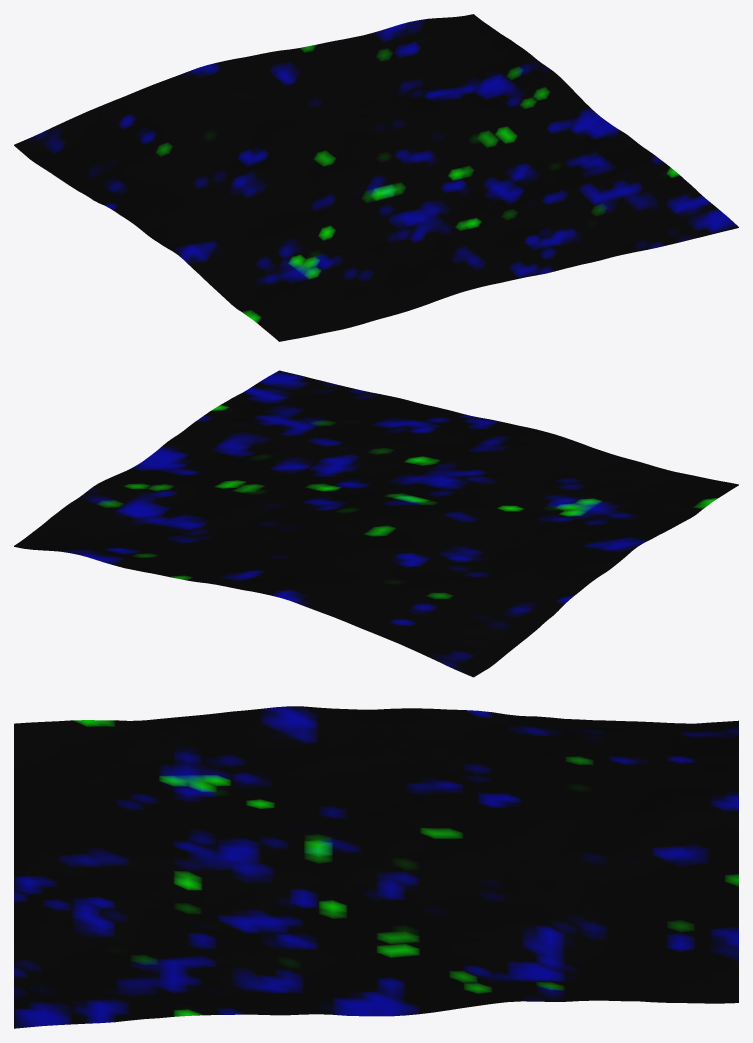
File: coast_0_-2400_800.glb
3 views of the same model, one above another, from view 1: azimuth 30°, elevation 25°; view 2: azimuth 150°, elevation 25°; view 3: azimuth 270°, elevation 25° (orthographic). The views are drawn at different scales.
Parts seen in each view (by area): view 1: terrain; view 2: terrain; view 3: terrain.
Part boxes in pixels (left/top/right/bottom): terrain: left=14, top=14, right=738, bottom=341; terrain: left=14, top=370, right=738, bottom=677; terrain: left=14, top=706, right=738, bottom=1028.
Size of the model in its own units: 800 by 64.07 by 800.
